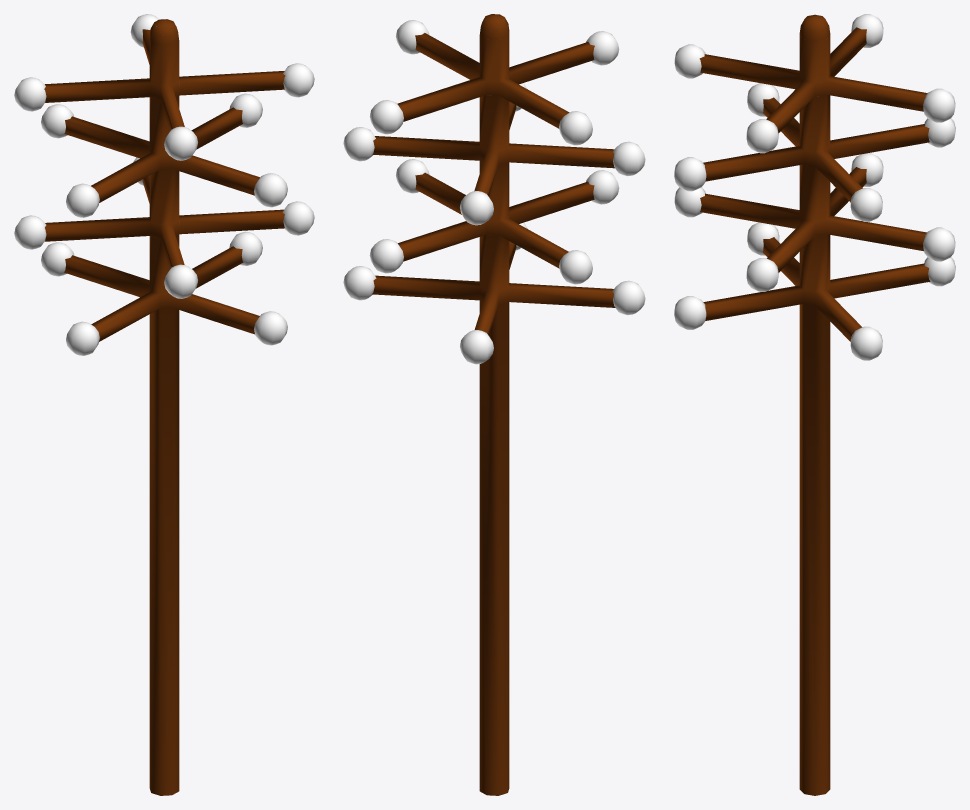
The model's file is circleSource.fbx.
3 renders of one model, left to right at view 1: azimuth 30°, elevation 25°; view 2: azimuth 150°, elevation 25°; view 3: azimuth 270°, elevation 25°, orthographic.
Parts seen in each view (by area): view 1: Circles; view 2: Circles; view 3: Circles.
Boxes of the visible parts, x1,y1,x2,y2 form: Circles: (14,14,314,795); Circles: (343,14,645,795); Circles: (674,14,955,795).
Size of the model in its own units: 4.56 by 13.85 by 4.57.
